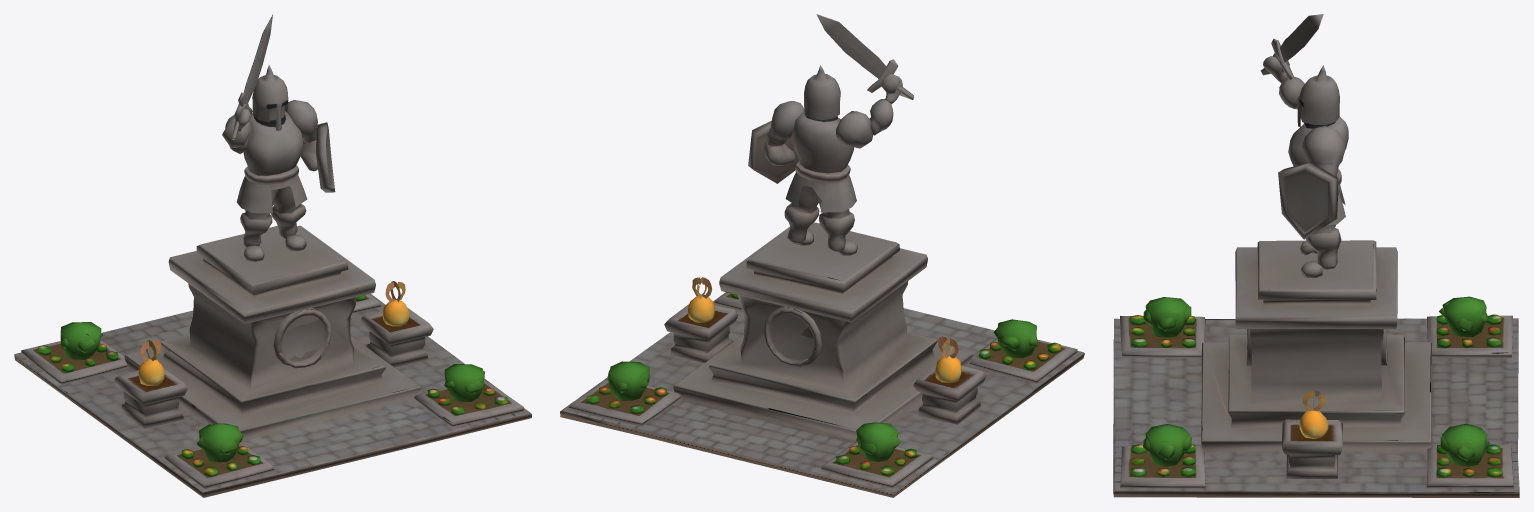
Rendered from Monument.fbx.
The picture shows the model from 3 angles, left to right: view 1: azimuth 30°, elevation 25°; view 2: azimuth 150°, elevation 25°; view 3: azimuth 270°, elevation 25°; orthographic projection. The views are drawn at different scales.
Visible parts, largest first — view 1: geometry_0; view 2: geometry_0; view 3: geometry_0.
Part boxes in pixels (bbox=[...]): geometry_0: bbox=[14, 14, 531, 497]; geometry_0: bbox=[560, 14, 1084, 497]; geometry_0: bbox=[1113, 14, 1519, 497].
Size of the model in its own units: 93.02 by 100 by 92.33.
1 material, 1 textured.
